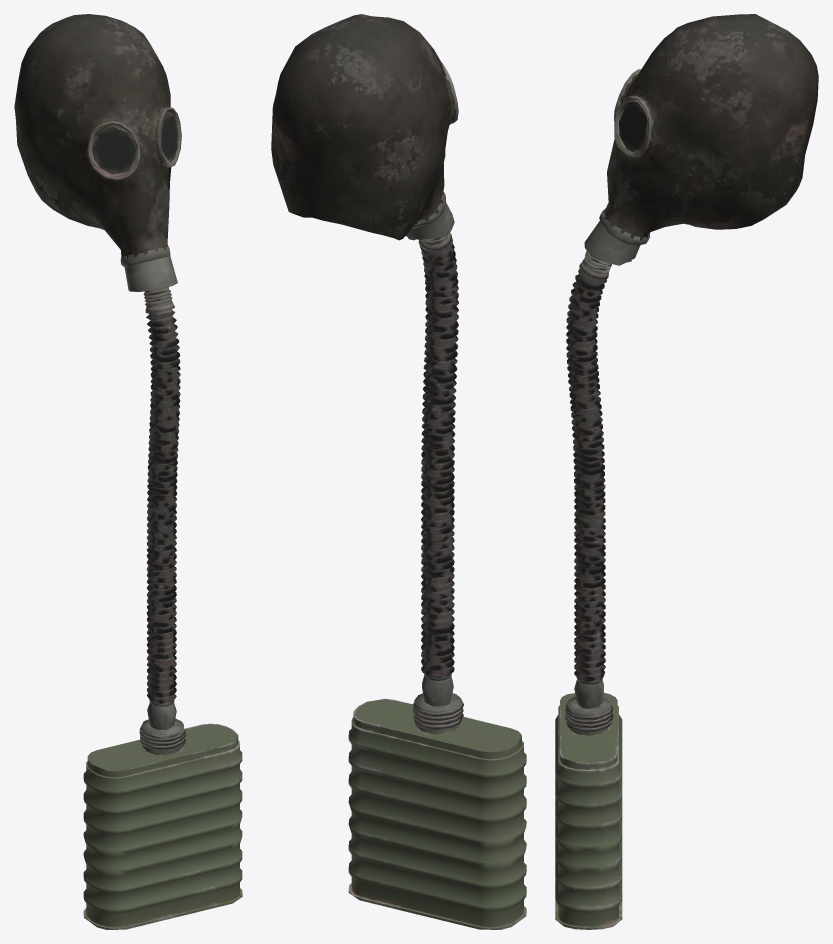
File: old_gas_mask.glb
3 renders of one model, left to right at view 1: azimuth 30°, elevation 25°; view 2: azimuth 150°, elevation 25°; view 3: azimuth 270°, elevation 25°, orthographic. The views are drawn at different scales.
Visible parts, largest first — view 1: old_gas_mask; view 2: old_gas_mask; view 3: old_gas_mask.
Part boxes in pixels (box(x1,y1,x2,y2)): old_gas_mask: box(14, 14, 242, 929); old_gas_mask: box(271, 14, 526, 929); old_gas_mask: box(555, 14, 818, 929).
Size of the model in its own units: 0.2105 by 1.13 by 0.3087.
1 material, 1 textured.
